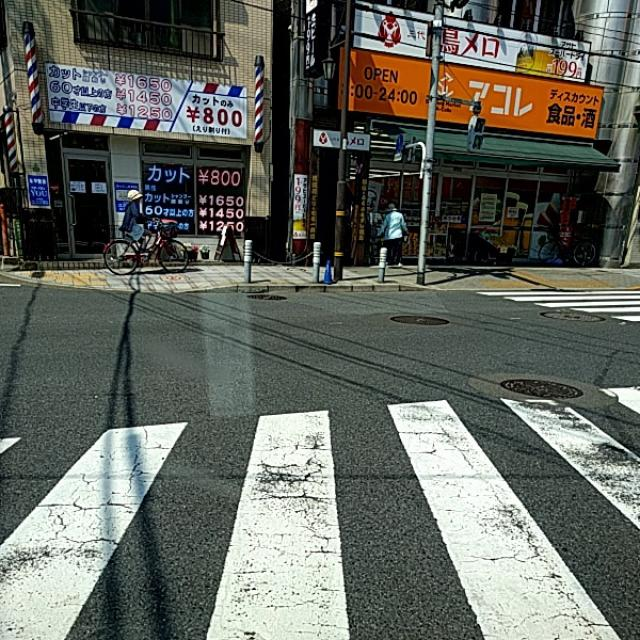pothole: (230, 452, 335, 540)
